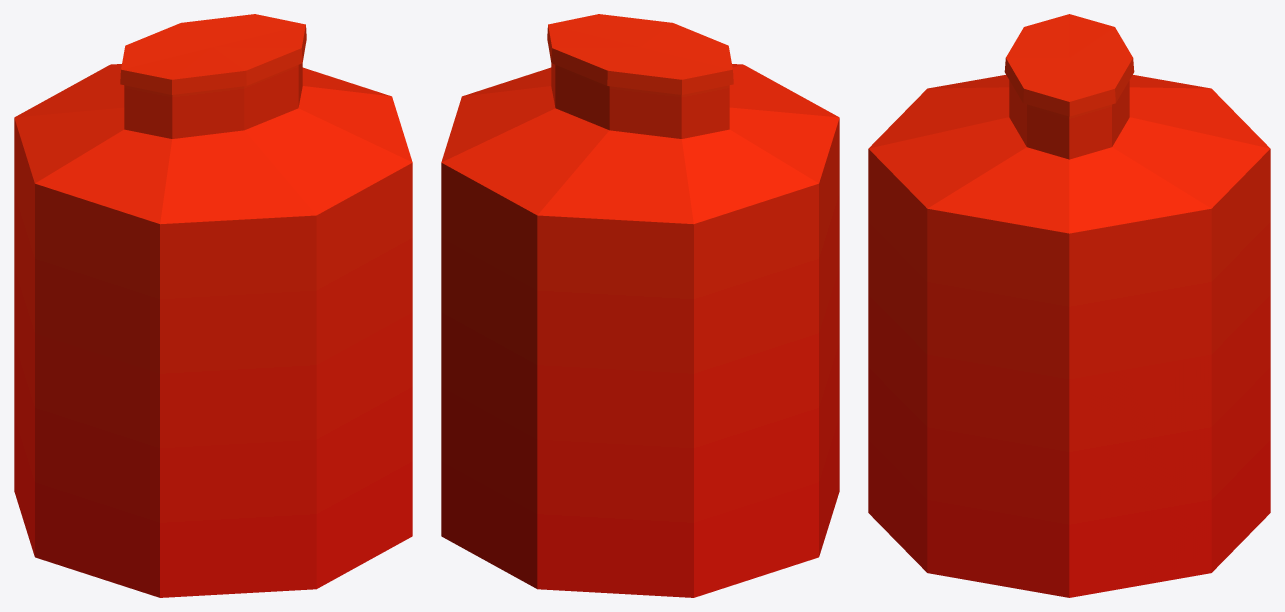
File: NomalBottle3.fbx
3 renders of one model, left to right at view 1: azimuth 30°, elevation 25°; view 2: azimuth 150°, elevation 25°; view 3: azimuth 270°, elevation 25°, orthographic. The views are drawn at different scales.
Parts seen in each view (by area): view 1: NomalBottle3; view 2: NomalBottle3; view 3: NomalBottle3.
Boxes of the visible parts, bbox=[...] form: NomalBottle3: bbox=[14, 14, 412, 597]; NomalBottle3: bbox=[441, 14, 839, 597]; NomalBottle3: bbox=[868, 14, 1270, 597].
Size of the model in its own units: 60 by 74.96 by 60.
